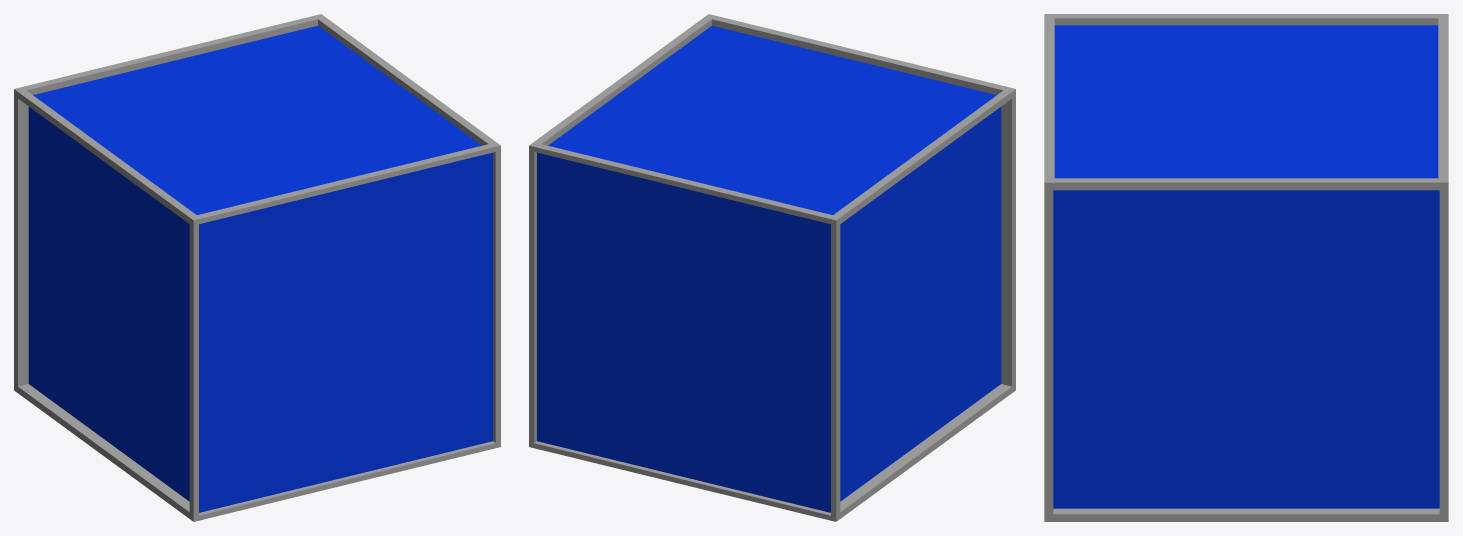
The model's file is lanternfloating.fbx.
3 renders of one model, left to right at view 1: azimuth 30°, elevation 25°; view 2: azimuth 150°, elevation 25°; view 3: azimuth 270°, elevation 25°, orthographic. The views are drawn at different scales.
Visible parts, largest first — view 1: pCube1; view 2: pCube1; view 3: pCube1.
Boxes of the visible parts, x1=… form: pCube1: x1=14, y1=14, x2=500, y2=521; pCube1: x1=529, y1=14, x2=1015, y2=521; pCube1: x1=1044, y1=14, x2=1448, y2=521.
Bounding box in the file's own units: 30.19 × 28.31 × 30.59.
